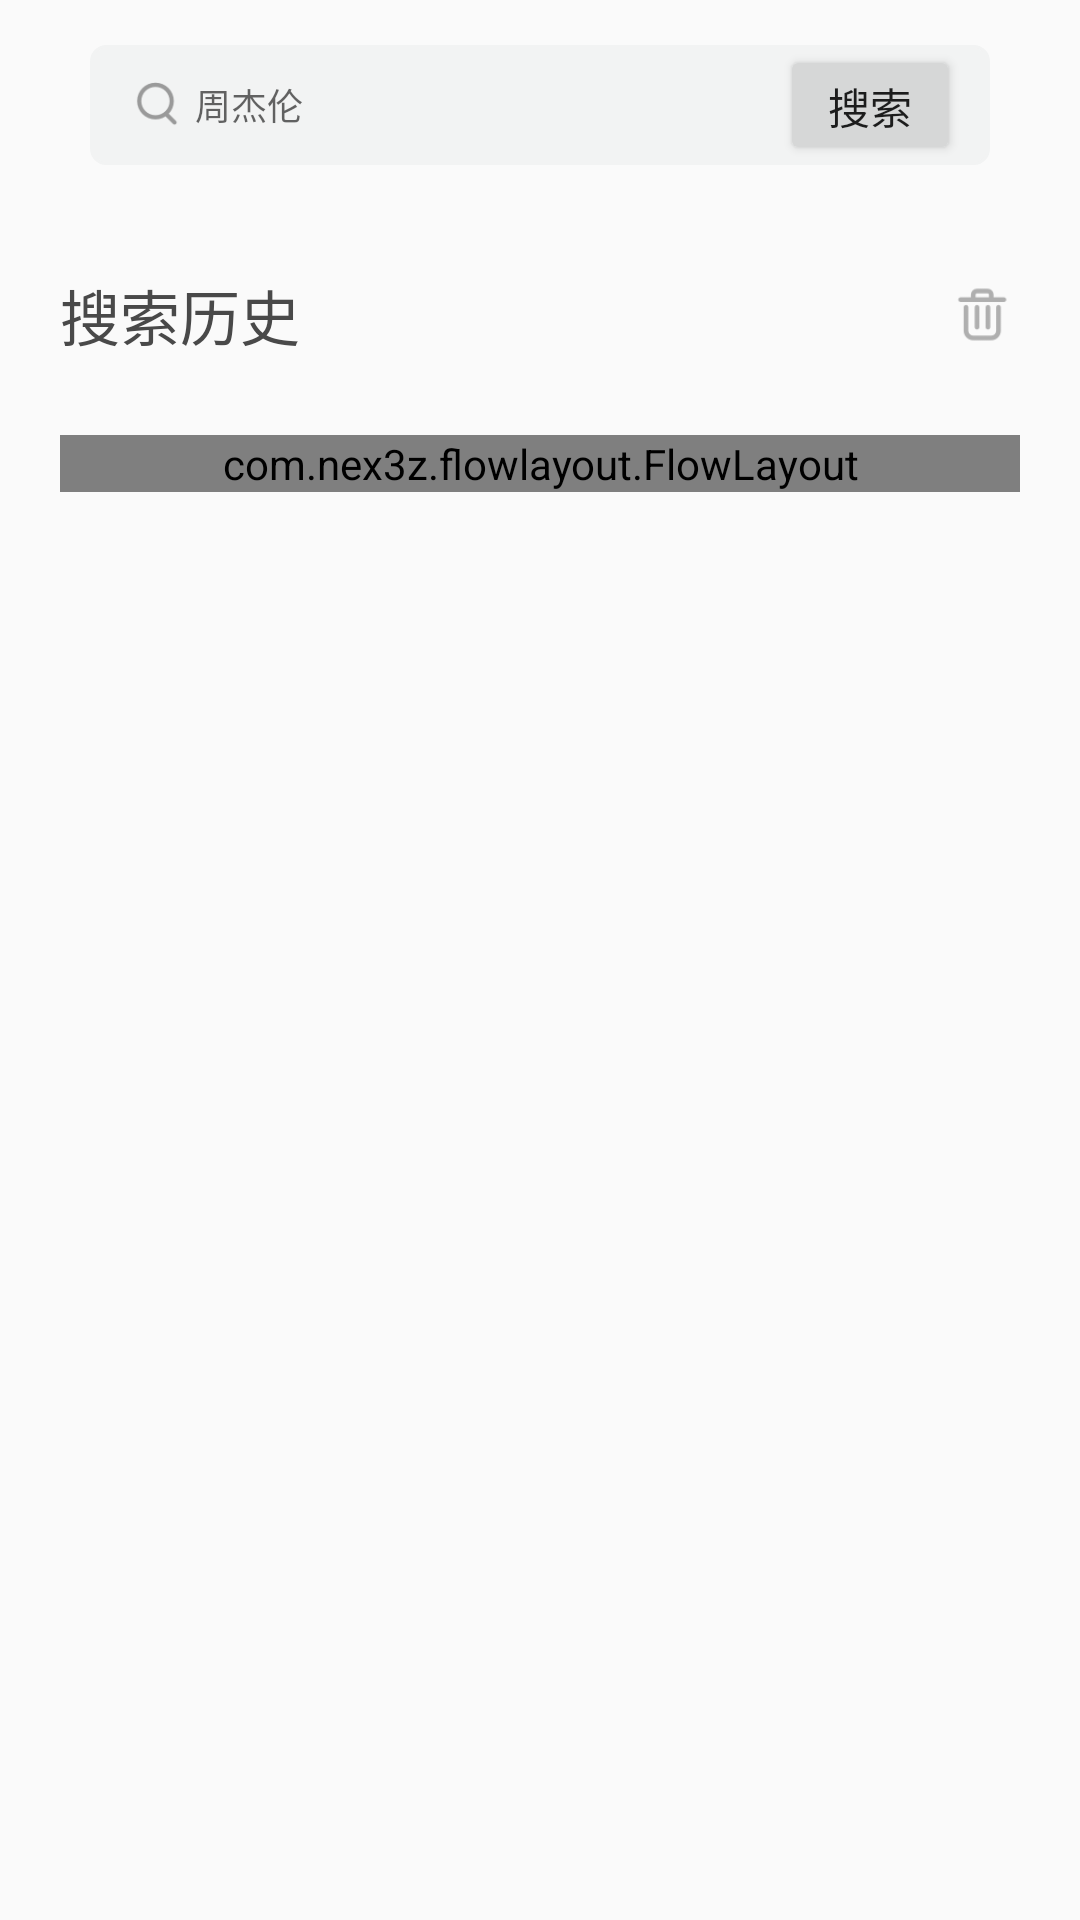

Where icons sit on this 1080x1920 app screen, as (x1, y1, x2, y2):
lisong remove: (958, 288, 1006, 341)
lisong search: (137, 83, 177, 125)
